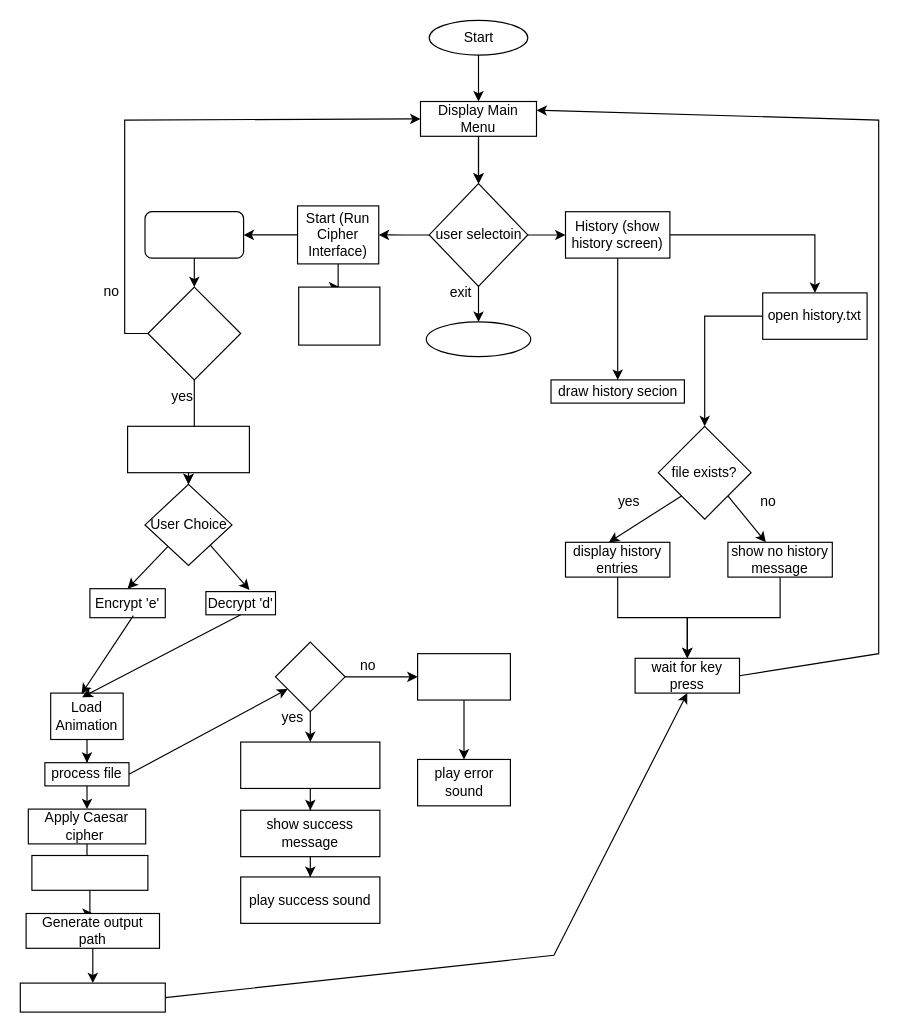
This 908x1032 diagram has some shape labels left out. The centre of each missing label's shape, as x and y in pixels:
display operation choice: (187,449)
draw file selection screen: (339,315)
Encrypt? +shift: -shift: (89,872)
end: (478,339)
file selection?: (194,333)
log action to history: (310,764)
Open file dialog: (194,234)
Return success status: (92,997)
show error message: (463,676)
success?: (309,676)
